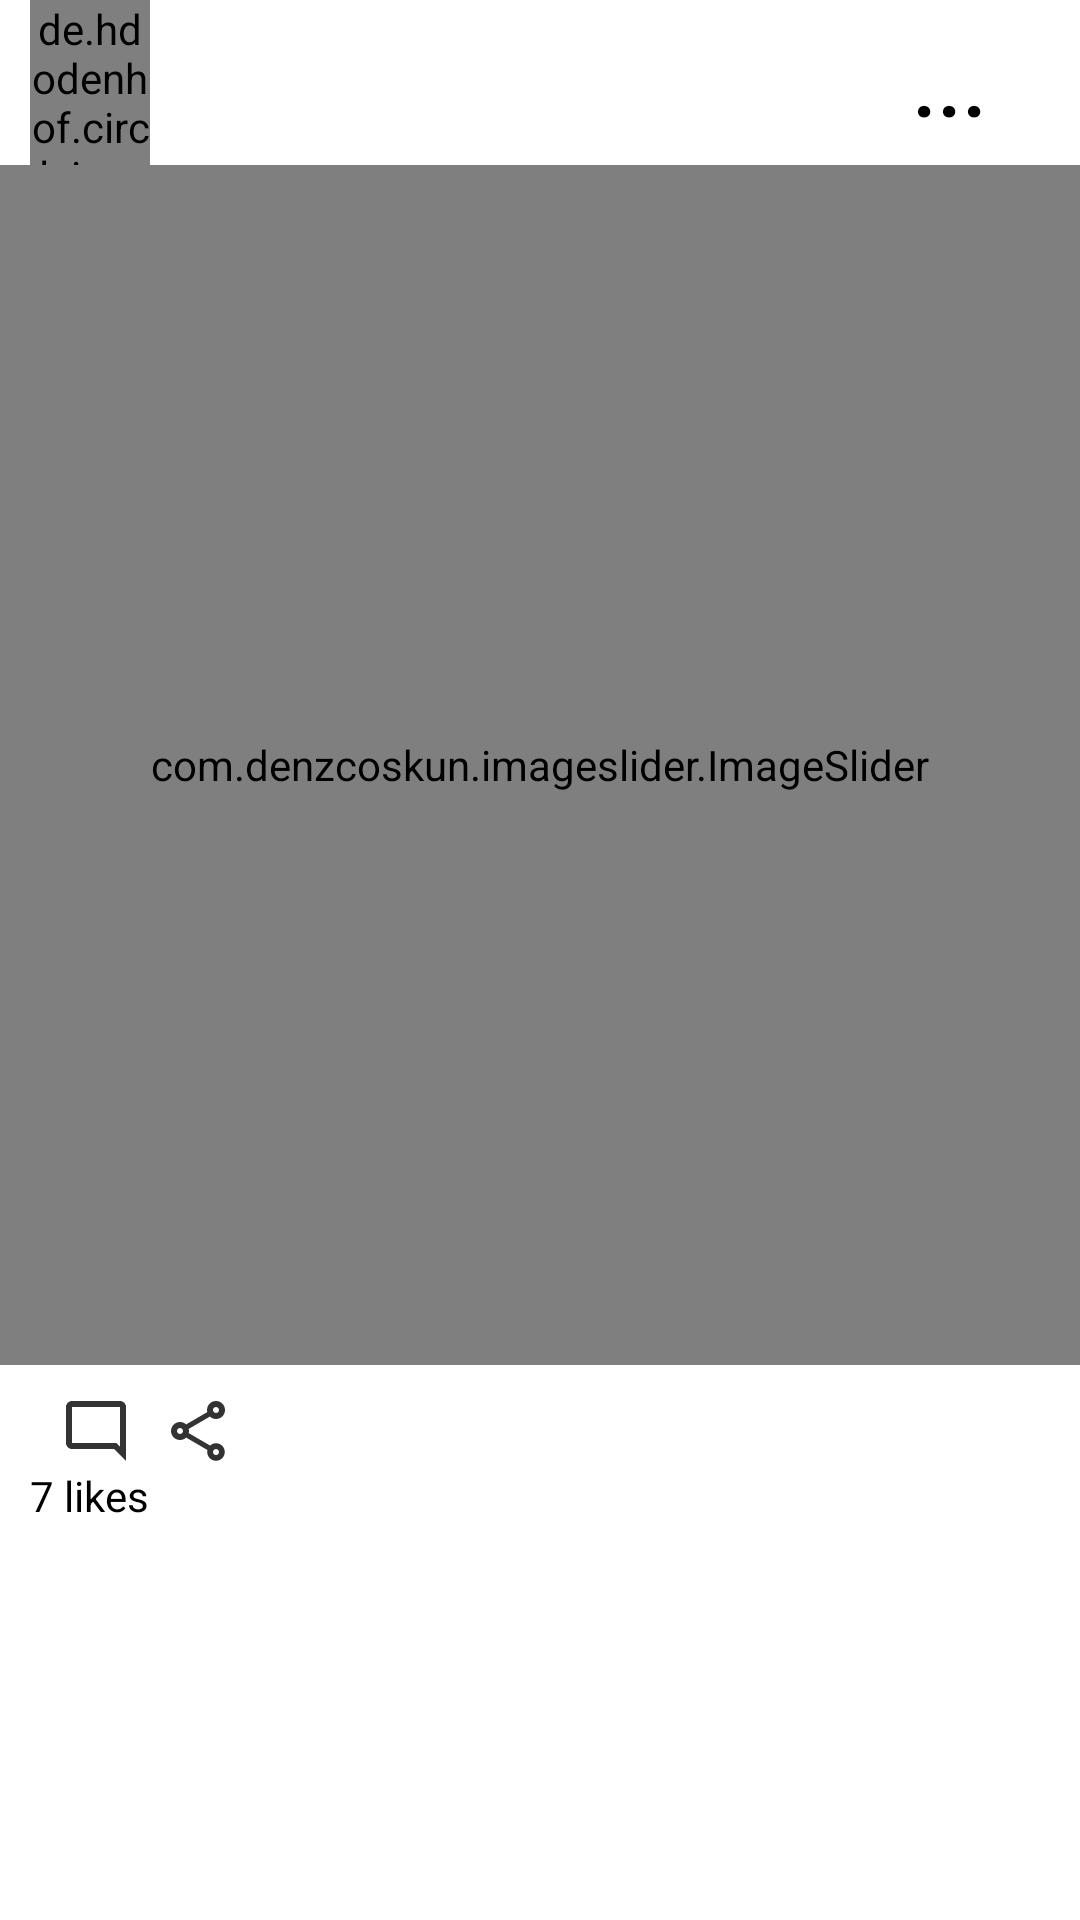

Icons on this 1080 x 1920 Android screen, each with the point to tap as point (x, y):
comment: point (96, 1431)
share: point (198, 1431)
